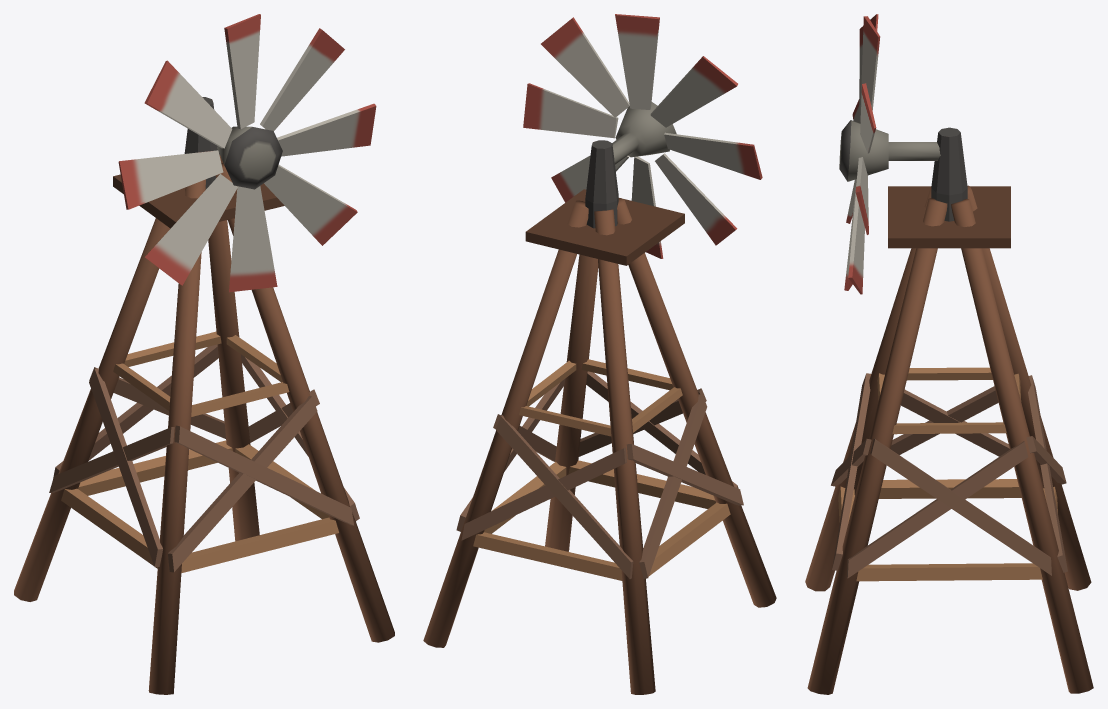
Rendered from Windmill2.fbx.
3 views of the same model, side by side, from view 1: azimuth 30°, elevation 25°; view 2: azimuth 150°, elevation 25°; view 3: azimuth 270°, elevation 25° (orthographic). The views are drawn at different scales.
Visible parts, largest first — view 1: Windmill2; view 2: Windmill2; view 3: Windmill2.
Part boxes in pixels (x1,y1,x2,y2): Windmill2: (14, 14, 394, 694); Windmill2: (423, 14, 776, 694); Windmill2: (805, 14, 1093, 694).
Bounding box in the file's own units: 353 × 849 × 362.
